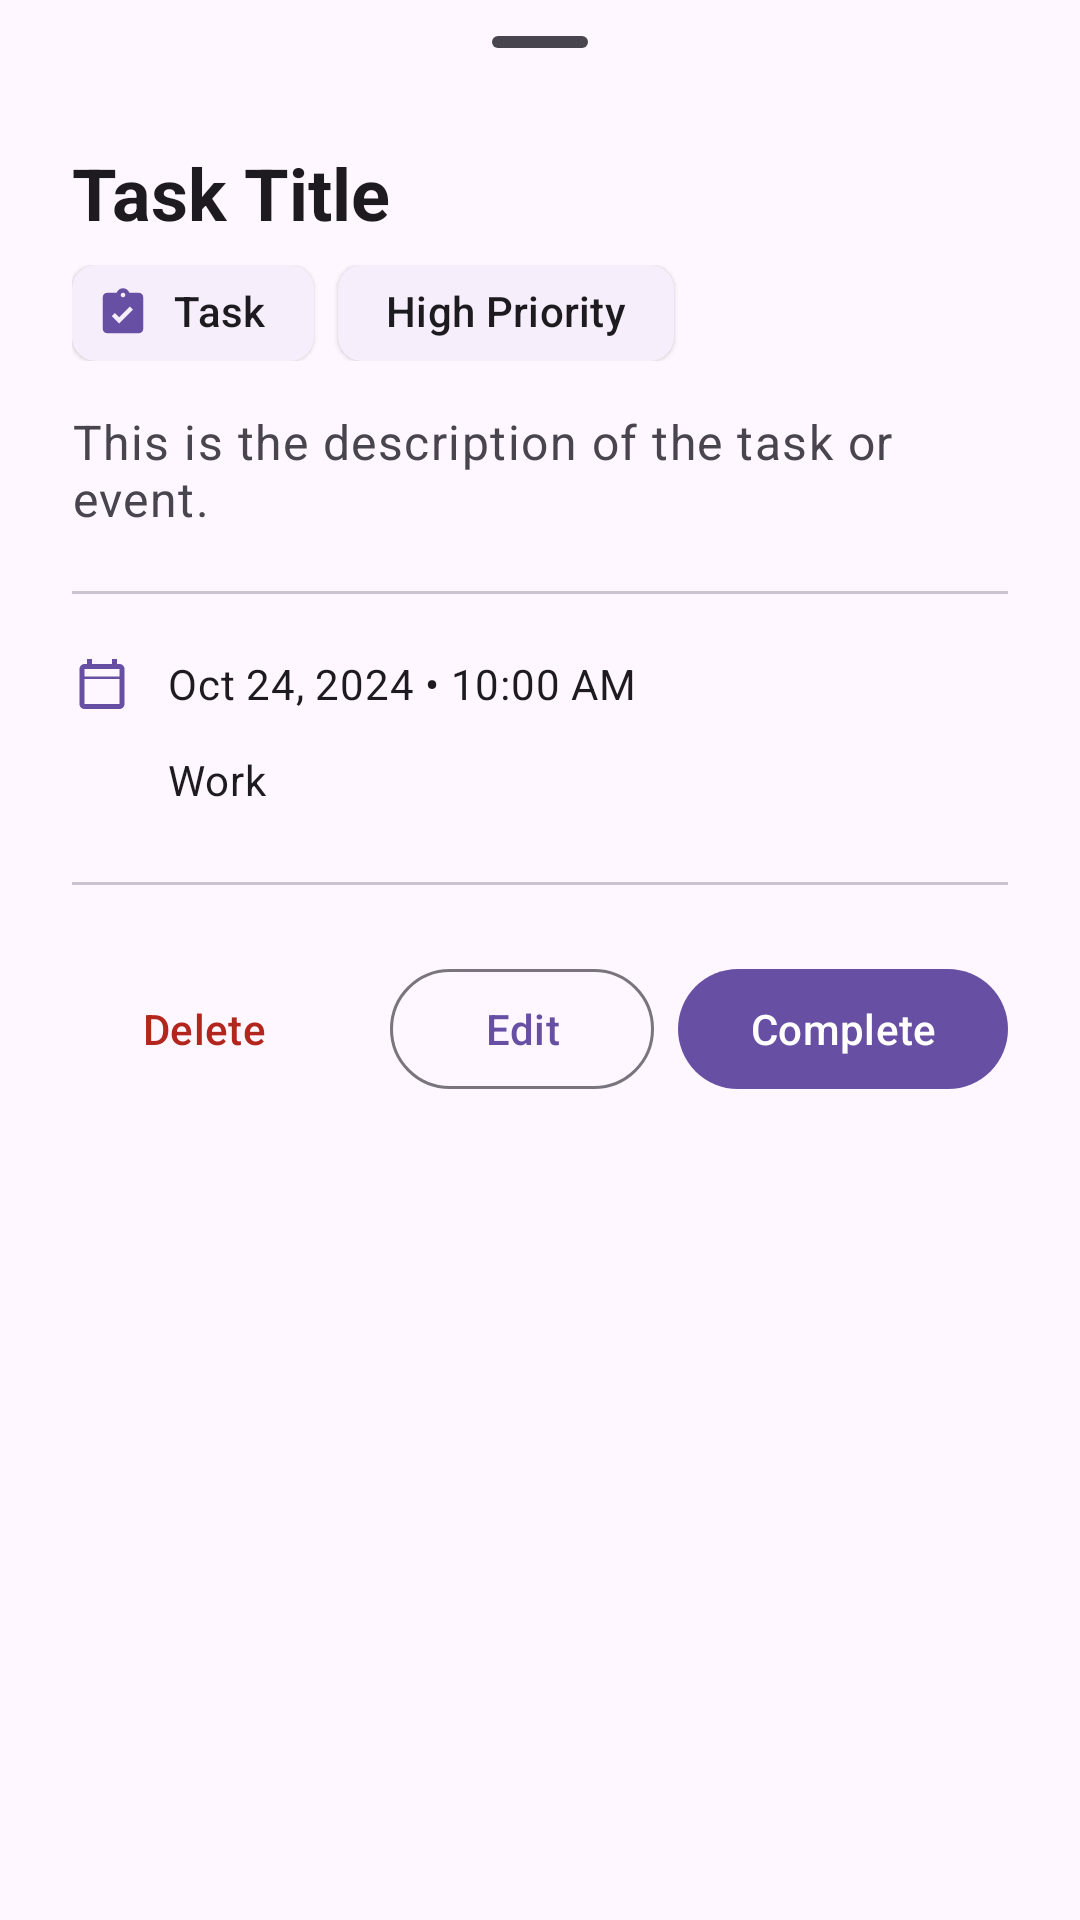

Icons on this 1080 × 1920 Android screen, each with the point to tap as (x=x, y=y):
calendar: (x=102, y=684)
